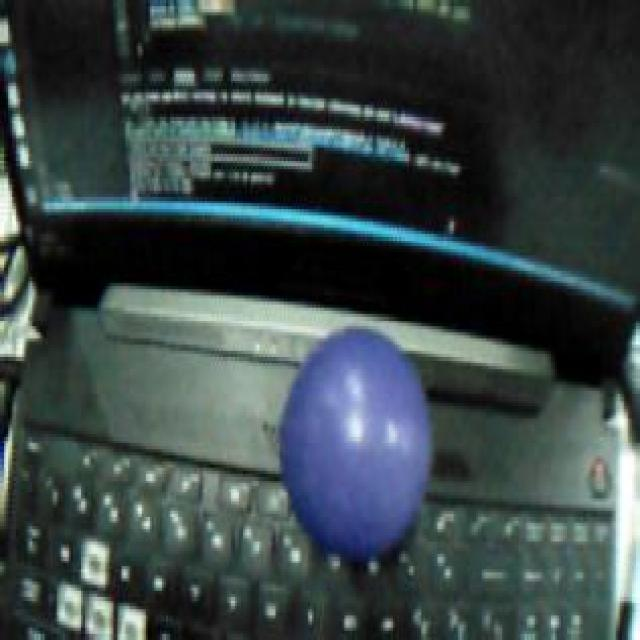BallPurple: (278, 328, 433, 560)
